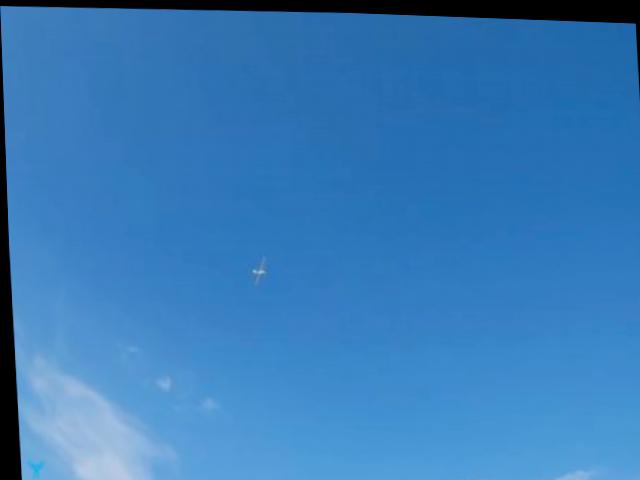uav: (240, 243, 274, 290)
